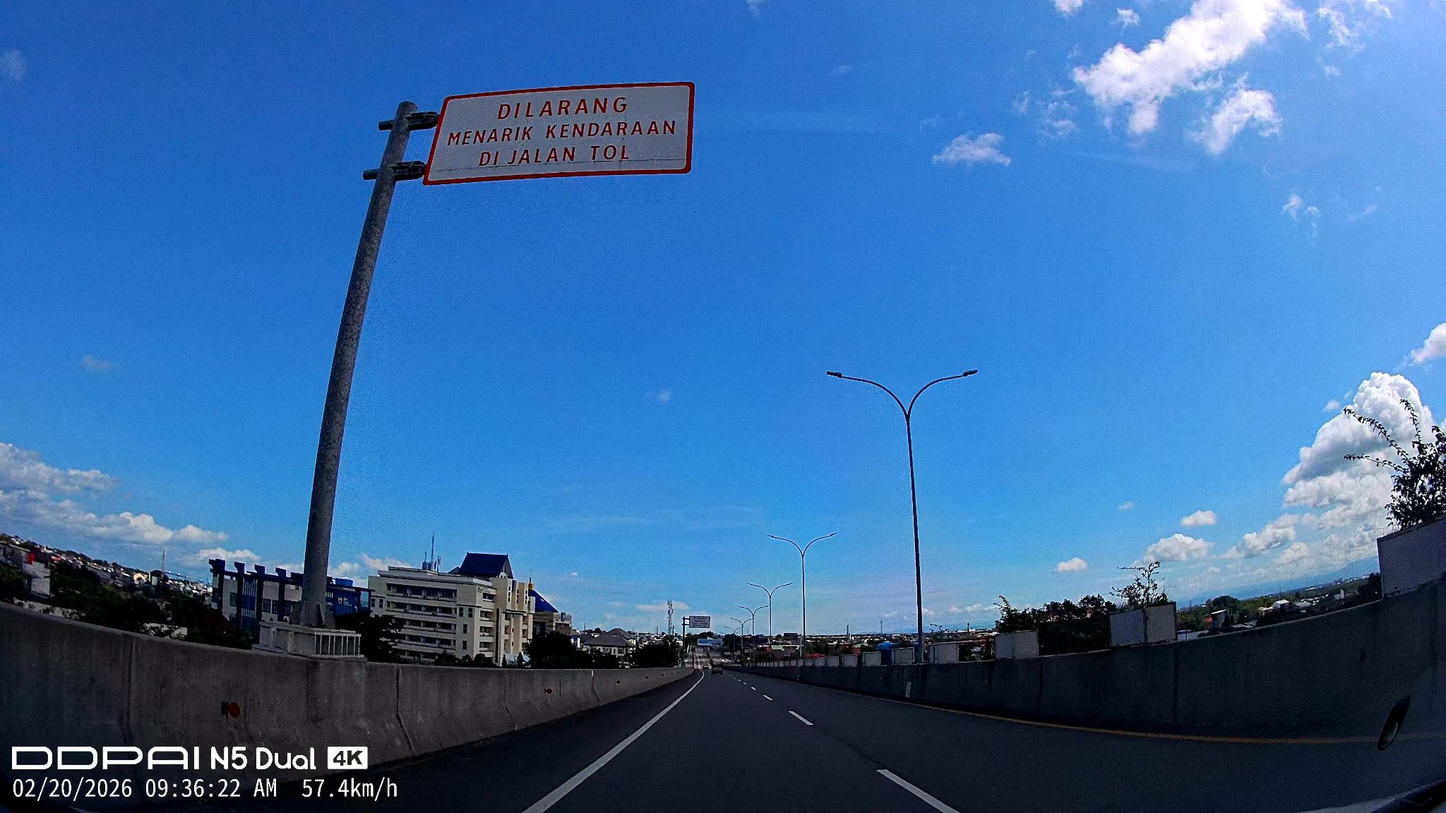rambu_teks: (422, 81, 695, 187)
